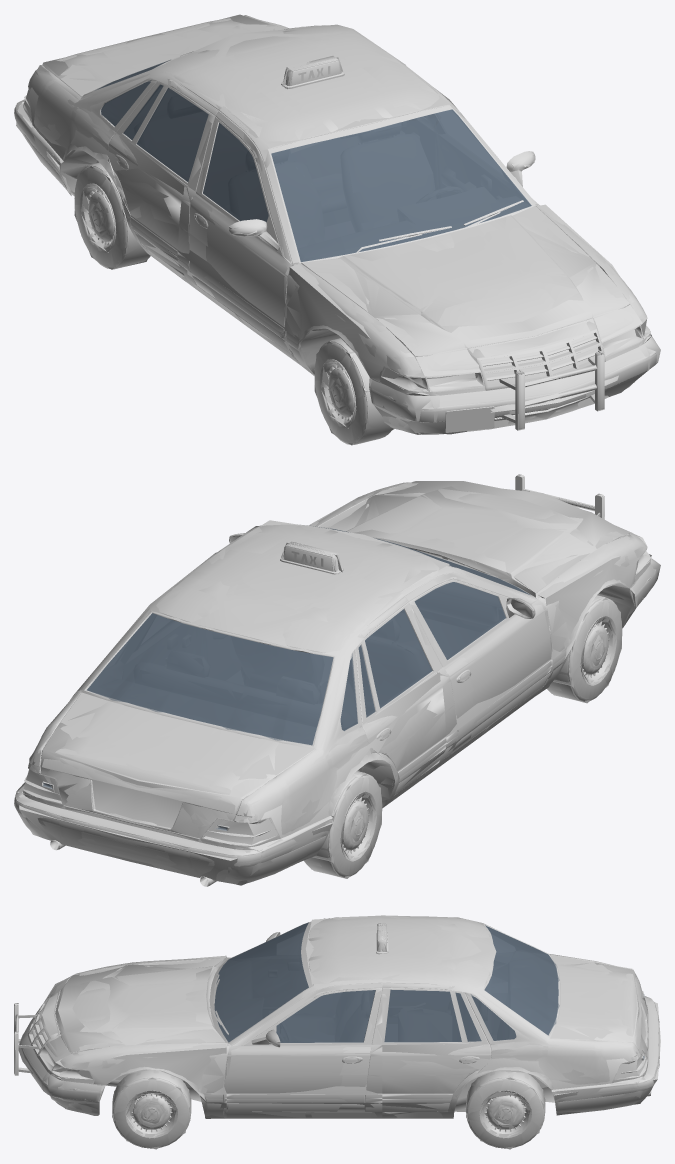
Rendered from taxi.fbx.
The picture shows the model from 3 angles, top to bottom: view 1: azimuth 30°, elevation 25°; view 2: azimuth 150°, elevation 25°; view 3: azimuth 270°, elevation 25°; orthographic projection. The views are drawn at different scales.
Parts seen in each view (by area): view 1: Body, LOD1_Body, LOD2_Body, LOD3_Body, Door_FR, LOD3_Door_FR, LOD2_Door_FR, LOD1_Door_FR, Door_FL, Wheel_FR, Wheel_RR, LOD1_Door_FL (+6 smaller); view 2: Body, LOD2_Body, LOD1_Body, LOD3_Body, Door_FR, LOD2_Door_FR, LOD3_Door_FR, LOD1_Door_FR, Wheel_RR, Wheel_FR, LOD1_Wheel_RR, LOD1_Wheel_FR (+2 smaller); view 3: Body, LOD1_Body, LOD2_Body, LOD3_Body, Door_FL, LOD3_Door_FL, LOD1_Door_FL, LOD2_Door_FL, Wheel_FL, Wheel_RL, LOD1_Wheel_RL, LOD1_Wheel_FL (+6 smaller).
Boxes of the visible parts, bbox=[...] form: Body: bbox=[14, 18, 656, 434]; LOD1_Body: bbox=[15, 19, 656, 434]; LOD2_Body: bbox=[15, 17, 654, 434]; LOD3_Body: bbox=[16, 14, 660, 434]; Door_FR: bbox=[178, 106, 346, 363]; LOD3_Door_FR: bbox=[178, 107, 346, 329]; LOD2_Door_FR: bbox=[179, 108, 322, 353]; LOD1_Door_FR: bbox=[178, 116, 345, 365]; Door_FL: bbox=[402, 64, 538, 216]; Wheel_FR: bbox=[314, 338, 391, 444]; Wheel_RR: bbox=[74, 162, 150, 269]; LOD1_Door_FL: bbox=[432, 112, 534, 216]; Body: bbox=[14, 474, 657, 886]; LOD2_Body: bbox=[15, 475, 656, 882]; LOD1_Body: bbox=[14, 476, 654, 886]; LOD3_Body: bbox=[17, 475, 660, 885]; Door_FR: bbox=[400, 558, 550, 768]; LOD2_Door_FR: bbox=[409, 562, 551, 774]; LOD3_Door_FR: bbox=[403, 560, 550, 773]; LOD1_Door_FR: bbox=[409, 560, 551, 752]; Wheel_RR: bbox=[304, 772, 382, 877]; Wheel_FR: bbox=[547, 596, 622, 701]; LOD1_Wheel_RR: bbox=[304, 774, 381, 877]; LOD1_Wheel_FR: bbox=[548, 598, 621, 701]; Body: bbox=[14, 916, 659, 1118]; LOD1_Body: bbox=[14, 916, 659, 1118]; LOD2_Body: bbox=[15, 916, 659, 1118]; LOD3_Body: bbox=[14, 915, 660, 1118]; Door_FL: bbox=[219, 979, 382, 1118]; LOD3_Door_FL: bbox=[221, 979, 382, 1118]; LOD1_Door_FL: bbox=[220, 980, 382, 1118]; LOD2_Door_FL: bbox=[224, 980, 382, 1118]; Wheel_FL: bbox=[112, 1069, 191, 1148]; Wheel_RL: bbox=[466, 1071, 545, 1148]; LOD1_Wheel_RL: bbox=[466, 1071, 544, 1148]; LOD1_Wheel_FL: bbox=[112, 1070, 191, 1148].
Bounding box in the file's own units: 2.03 × 1.48 × 5.06.
